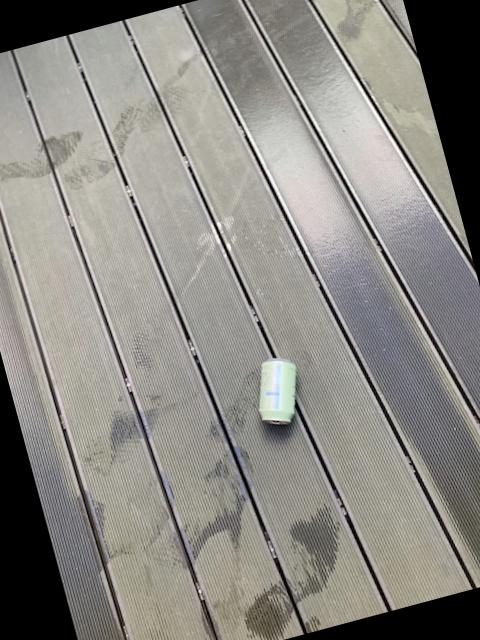metal: (258, 358, 295, 424)
